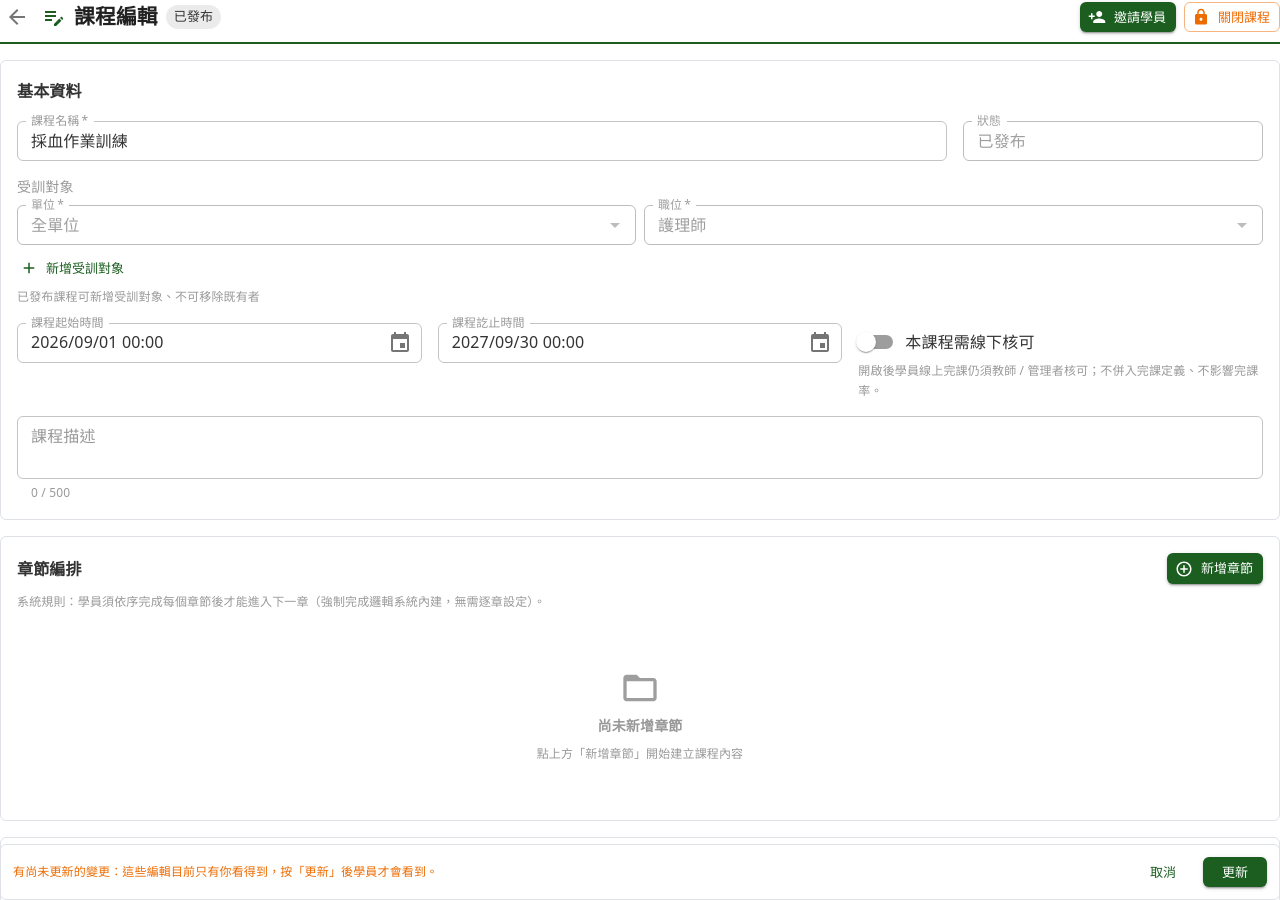
Test: ET05 更新（#631） › 按下「更新」先二次確認，確認後才送出；確認內容說明刪除會連帶移除學員進度
The image size is (1280, 900).
Click the button "更新".
click(1235, 872)  # box [1203,856,1267,887]
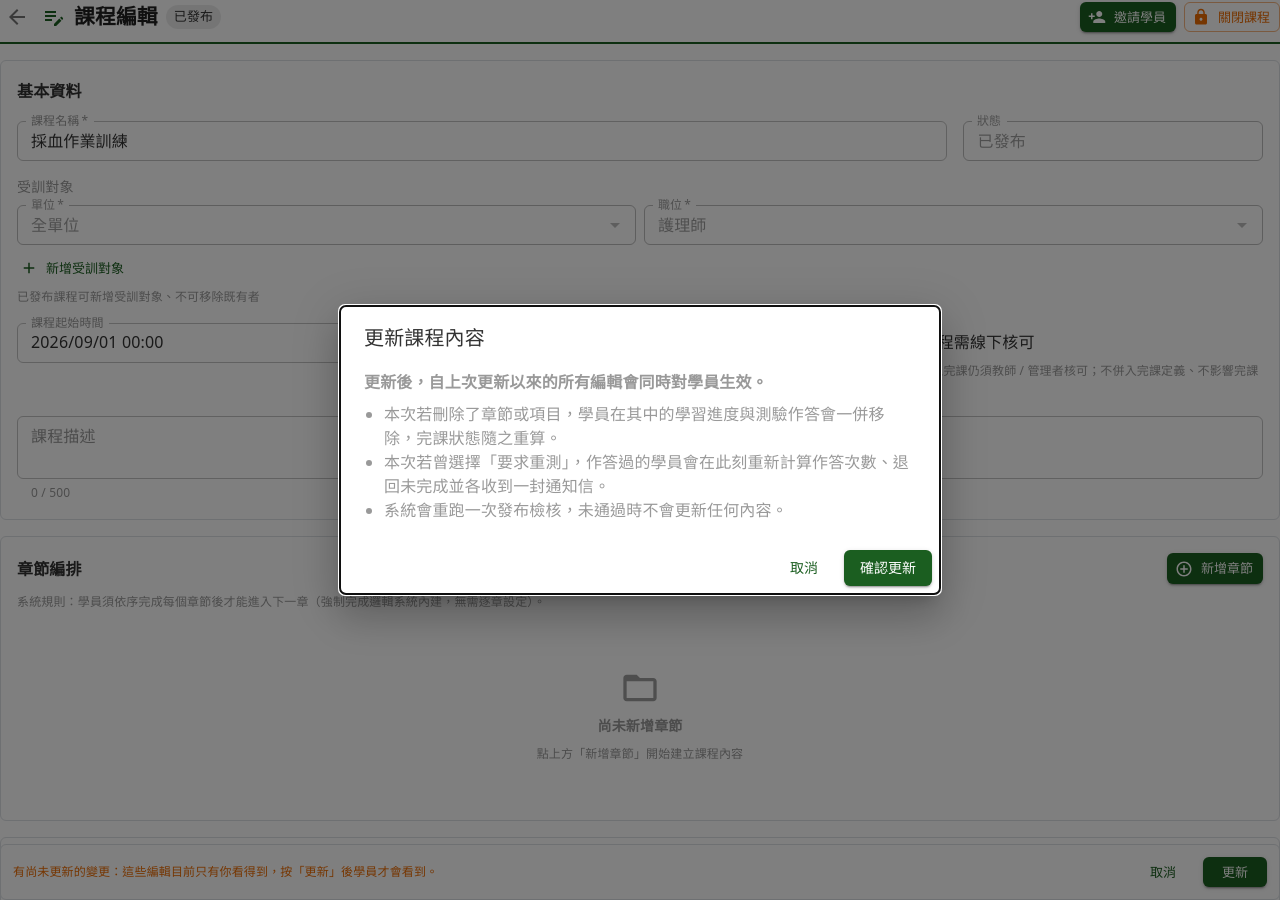
Expected: the list item "本次若刪除了章節或項目，學員在其中的學習進度與測驗作答會一併移除，完課狀態隨之重算。" is shown, [384,402,916,450]
Click the button "確認更新".
click(888, 568)  # box [844,550,932,586]
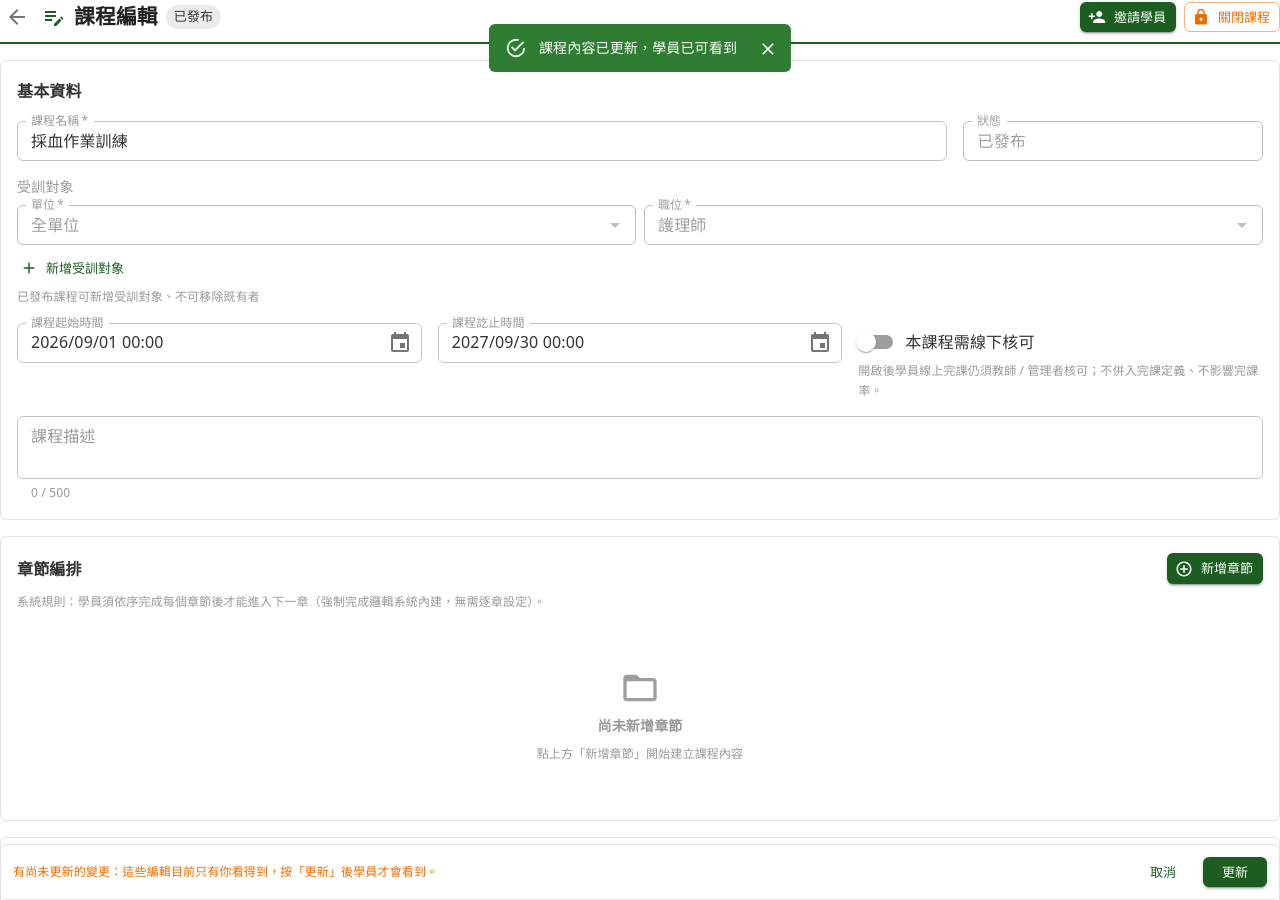
Expected: the text "課程內容已更新，學員已可看到" is shown, [539,38,737,57]
